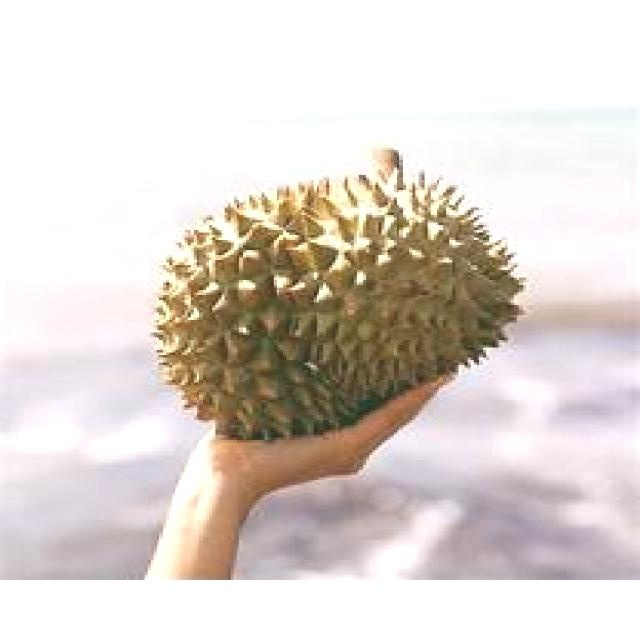agrume: (127, 142, 545, 450)
